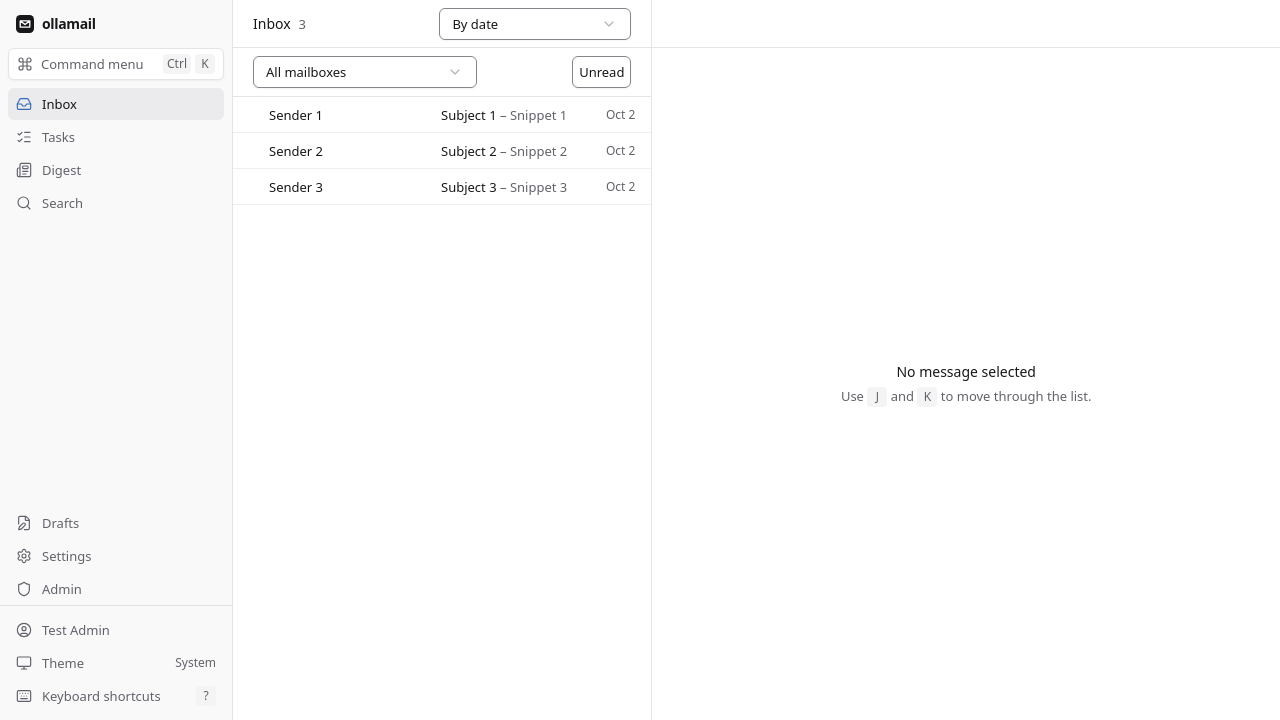
Test: triage in the inbox › groups the inbox by category, highest priority first
This screenshot has width=1280, height=720.
Expected: the heading "Inbox" is shown, [253,14,291,34]
Expected: the text "Sender 1" is shown, [269,106,323,124]
Select "By category" in the dropdown named "View" at point(535, 24), box [439,8,631,40]
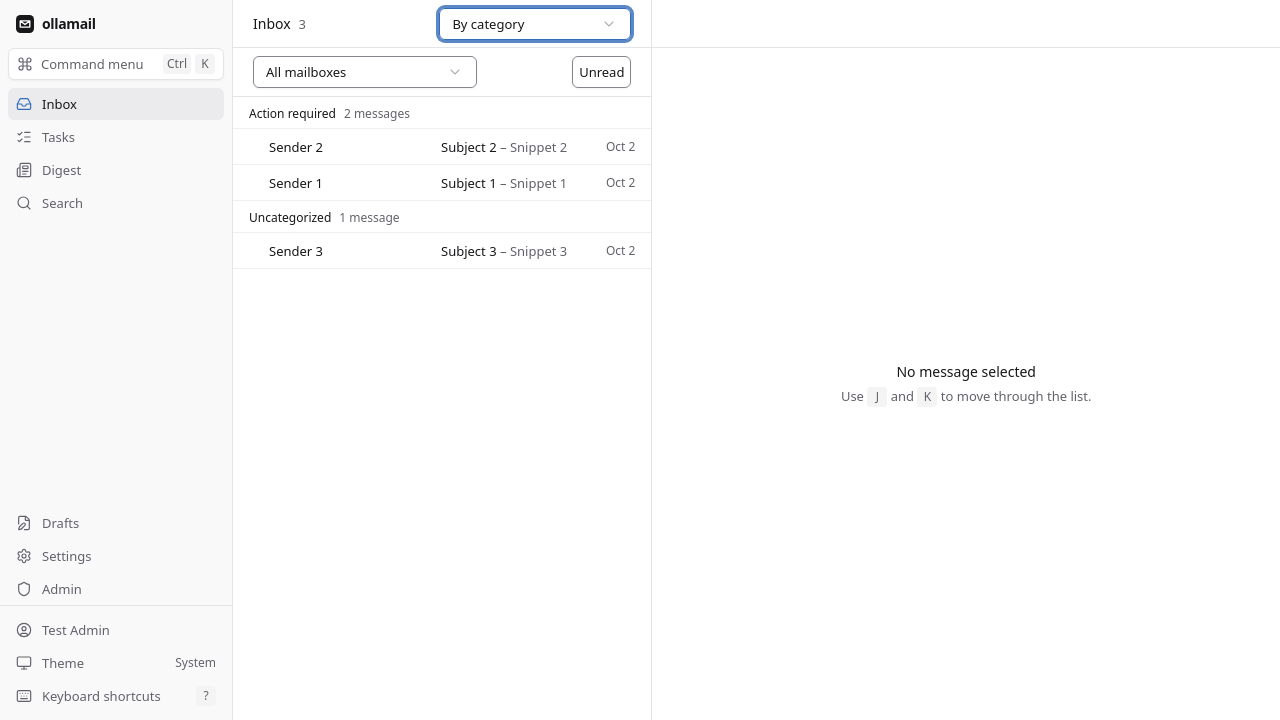
Now the heading "Action required" is shown, box [249,106,336,122]
Now the heading "Uncategorized" is shown
Note: A heading filters to its group.
Click the link "Uncategorized".
click(290, 218)  # box [249,209,331,226]
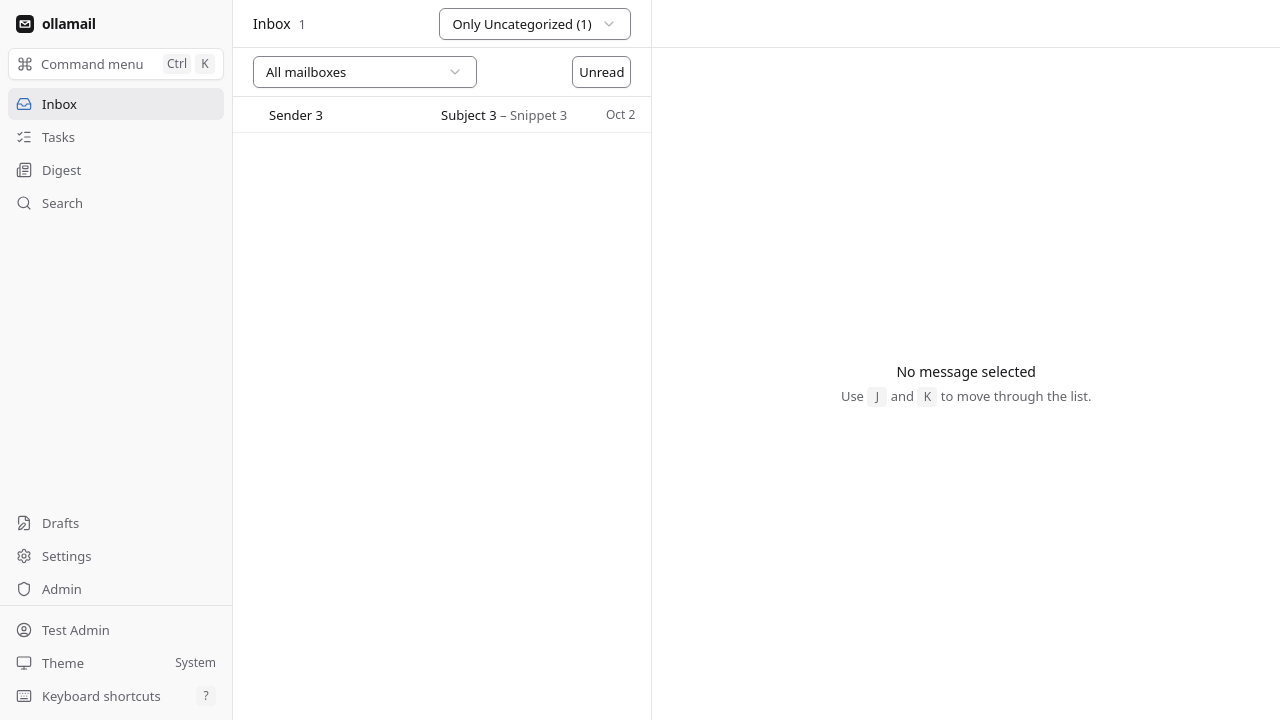
Now the link "Sender 1" is gone
